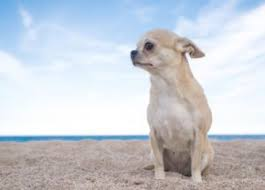chihuahua: (105, 17, 222, 181)
